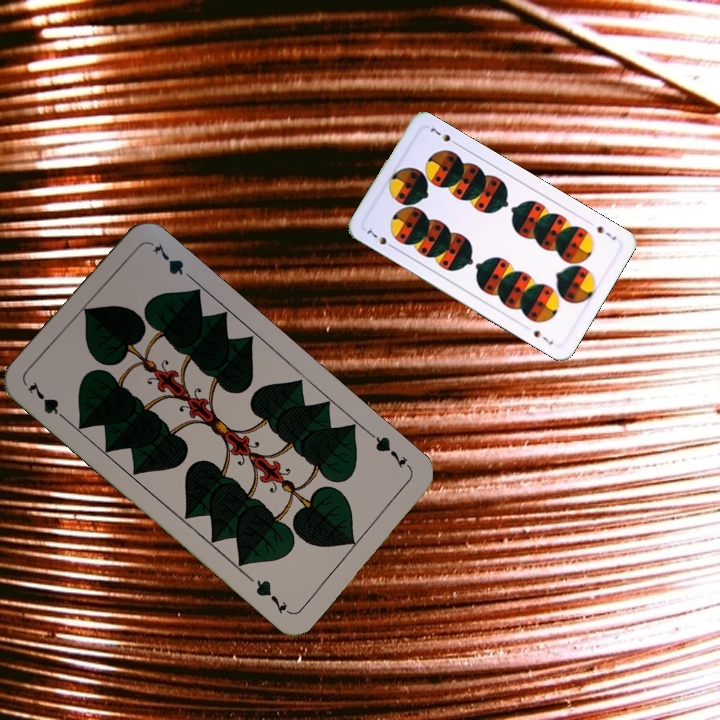G7: (23, 377, 72, 425), (366, 429, 414, 473)
S7: (362, 223, 398, 252), (593, 222, 619, 243)
